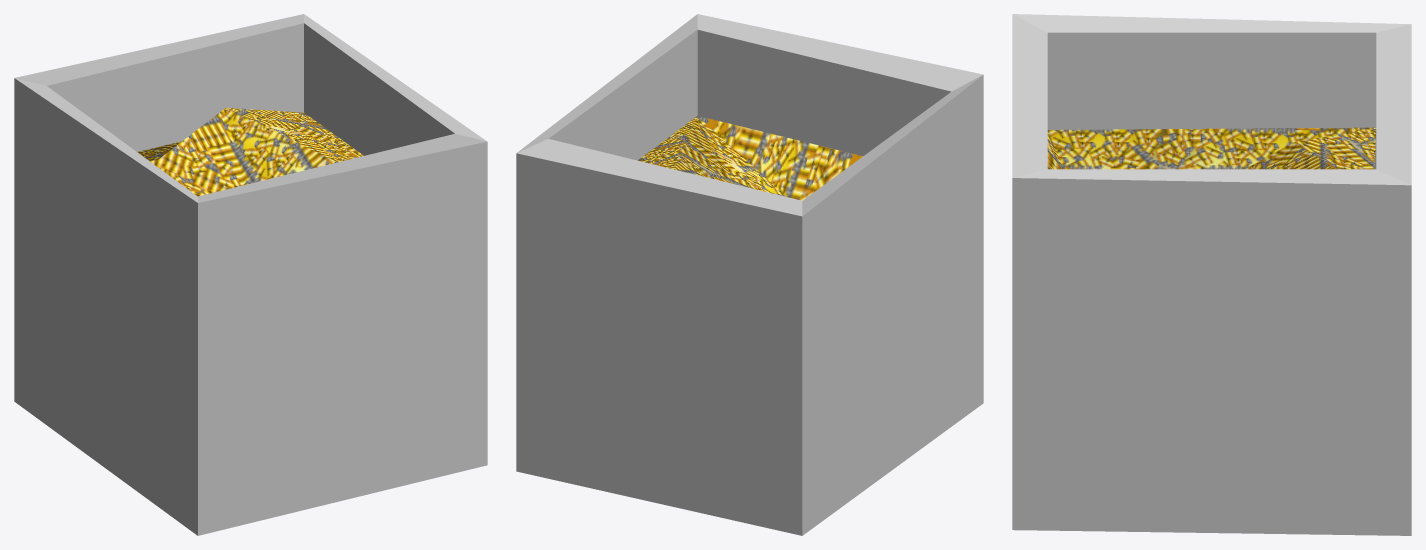
Rendered from LargeAmmoCrate.fbx.
3 renders of one model, left to right at view 1: azimuth 30°, elevation 25°; view 2: azimuth 150°, elevation 25°; view 3: azimuth 270°, elevation 25°, orthographic. The views are drawn at different scales.
Parts seen in each view (by area): view 1: BigAmmoCrate; view 2: BigAmmoCrate; view 3: BigAmmoCrate.
Boxes of the visible parts, left/top/right/bottom form: BigAmmoCrate: left=14, top=14, right=487, bottom=535; BigAmmoCrate: left=516, top=14, right=983, bottom=535; BigAmmoCrate: left=1012, top=14, right=1411, bottom=535.
Bounding box in the file's own units: 354 × 395 × 389.
